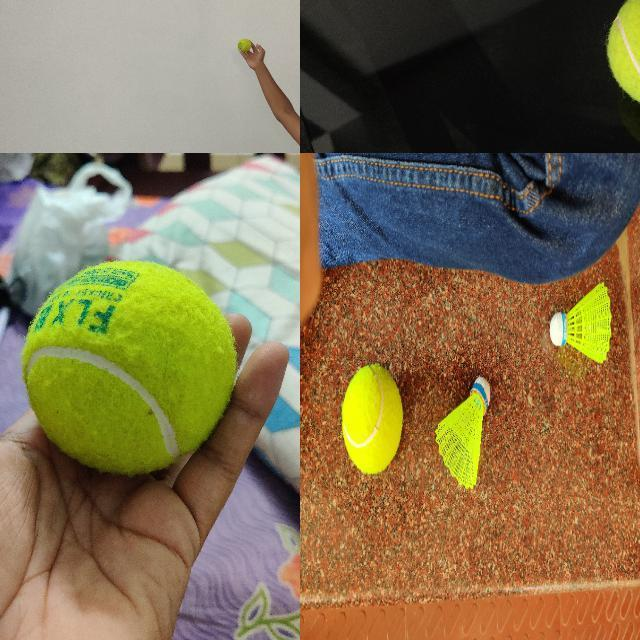tennis-ball: (21, 262, 236, 477), (341, 364, 403, 475), (606, 0, 639, 113), (237, 38, 251, 52)
